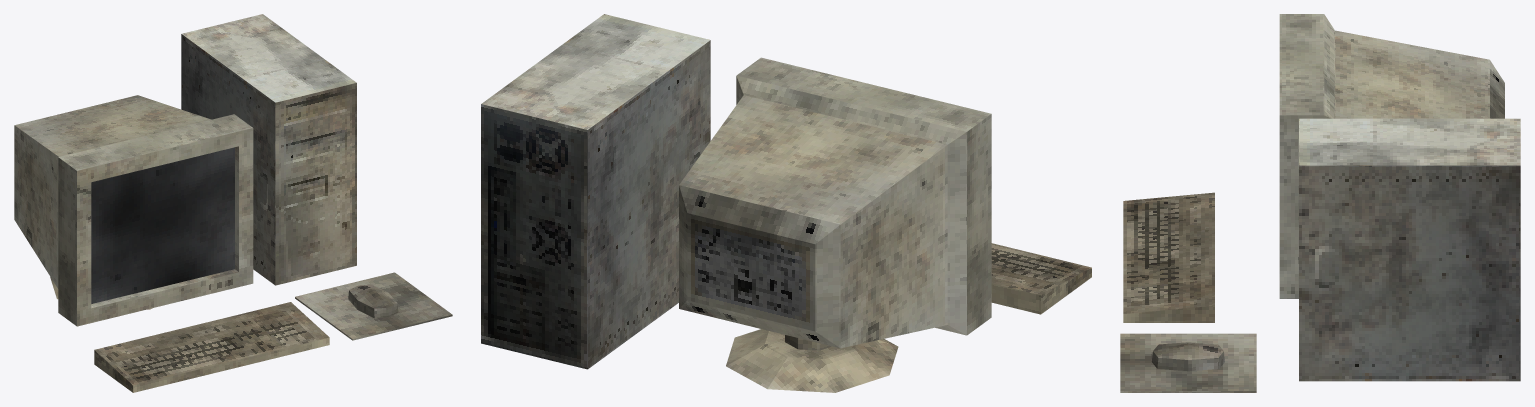
Rendered from PSX_PC.glb.
3 renders of one model, left to right at view 1: azimuth 30°, elevation 25°; view 2: azimuth 150°, elevation 25°; view 3: azimuth 270°, elevation 25°, orthographic. The views are drawn at different scales.
Visible parts, largest first — view 1: SM_Monitor, SM_ComputerCase, SM_Keyboard, SM_Mousepad, SM_Mouse; view 2: SM_Monitor, SM_ComputerCase, SM_Keyboard; view 3: SM_ComputerCase, SM_Monitor, SM_Keyboard, SM_Mousepad, SM_Mouse.
Boxes of the visible parts, <box> form: SM_Monitor: <box>14,95,253,326</box>; SM_ComputerCase: <box>181,14,356,285</box>; SM_Keyboard: <box>94,302,329,392</box>; SM_Mousepad: <box>295,272,452,340</box>; SM_Mouse: <box>348,284,398,318</box>; SM_Monitor: <box>679,57,991,392</box>; SM_ComputerCase: <box>481,14,710,369</box>; SM_Keyboard: <box>991,243,1091,314</box>; SM_ComputerCase: <box>1299,118,1520,381</box>; SM_Monitor: <box>1279,14,1504,298</box>; SM_Keyboard: <box>1123,192,1214,322</box>; SM_Mousepad: <box>1120,333,1256,392</box>; SM_Mouse: <box>1151,342,1224,371</box>.
Bounding box in the file's own units: 1.11 × 0.6077 × 1.02.
Materials: 1 (1 with a texture image).
